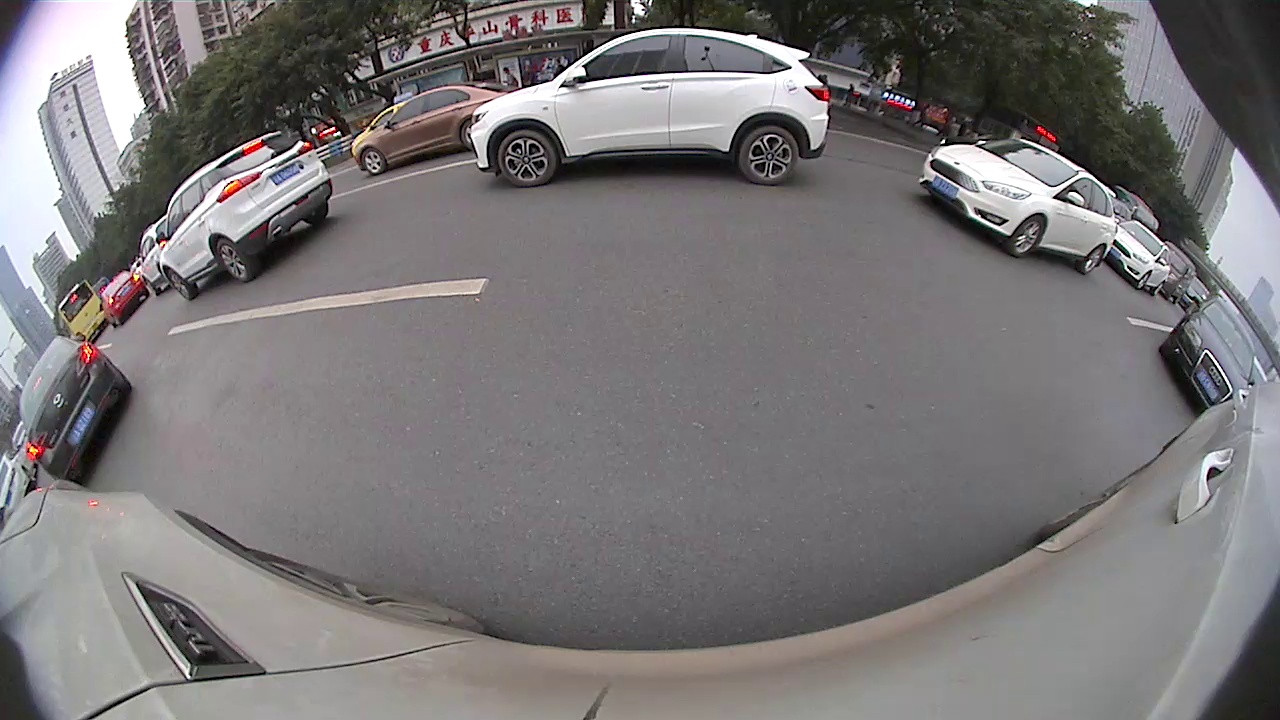bus: (60, 277, 110, 344)
car: (468, 29, 831, 189), (157, 127, 333, 301), (918, 137, 1115, 274), (21, 334, 133, 483), (352, 85, 503, 177), (1158, 297, 1256, 415), (1107, 217, 1173, 295), (99, 267, 150, 329)
front: (497, 130, 555, 188), (1005, 212, 1048, 259), (163, 265, 202, 301), (359, 147, 388, 176), (1134, 269, 1151, 291)
rear: (739, 124, 798, 187), (214, 239, 258, 284), (1077, 241, 1105, 275)
